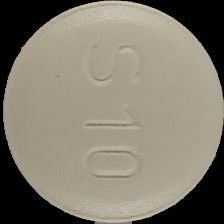0597-0152: (0, 0, 224, 224)
